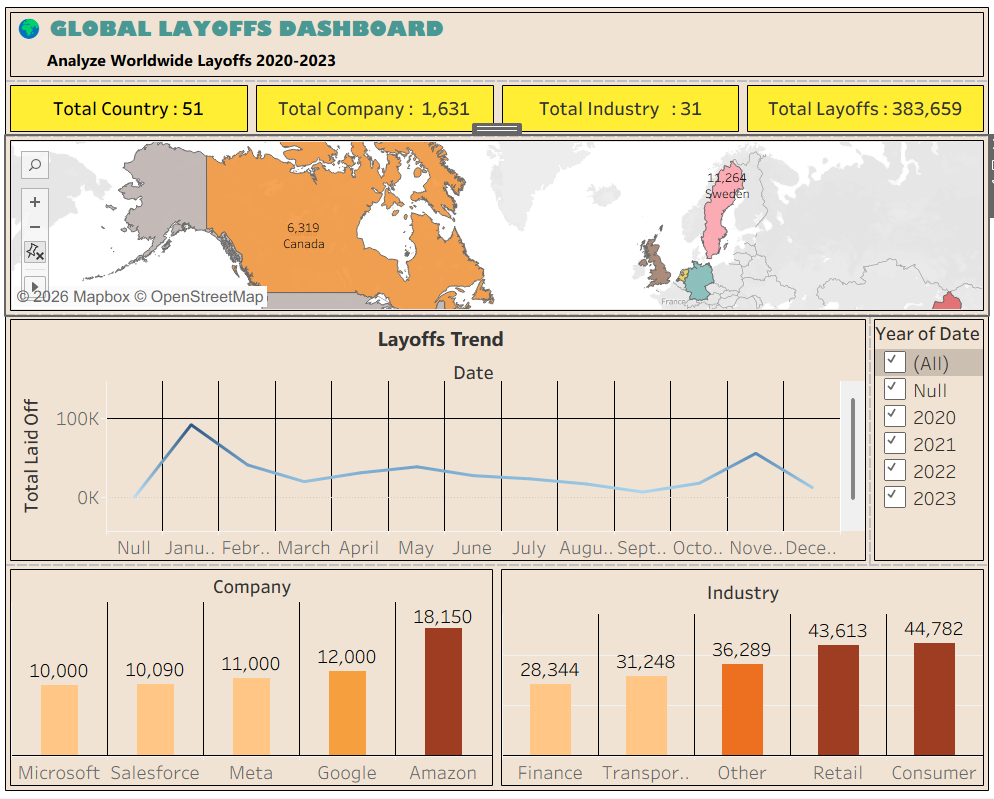

This screenshot's page, from the dashboard's own definition file:
{"tool":"tableau","page":{"name":"Dashboard 2","canvas":[1000,800],"ordinal":1},"visuals":[{"type":"text","box":[9,9,982,72.8]},{"type":"worksheet","title":"t_country","mark":"Automatic","box":[9,82,246,55]},{"type":"worksheet","title":"t_company","mark":"Automatic","box":[255,82,246,55]},{"type":"worksheet","title":"t_industry","mark":"Automatic","box":[501,82,245,55]},{"type":"worksheet","title":"t_layoffs","mark":"Automatic","box":[746,82,245,55]},{"type":"worksheet","title":"top_country","mark":"Multipolygon","box":[9,136.6,982,179.4]},{"type":"worksheet","title":"Layoffs_trend","mark":"Automatic","rows":["total_laid_off"],"cols":["date"],"box":[9,316,864,250]},{"type":"filter","title":"Layoffs_trend","param":"[federated.0qm9r9c16t5tef1e8rkwj1sw08du].[yr:date:ok]","box":[873,316,118,250]},{"type":"worksheet","title":"top_company","mark":"Bar","rows":["total_laid_off"],"cols":["company"],"box":[9,566,491,225]},{"type":"worksheet","title":"top_industry","mark":"Bar","rows":["total_laid_off"],"cols":["industry"],"box":[500,566,491,225]}]}

Visuals, with their boxes in screenshot pixels (x1, y1, x2, y2), scaled from the page's 1000x800 canvas onto the 994x799 screenshot:
text: region(9, 9, 985, 82)
"t_country" worksheet: region(9, 82, 253, 137)
"t_company" worksheet: region(253, 82, 498, 137)
"t_industry" worksheet: region(498, 82, 742, 137)
"t_layoffs" worksheet: region(742, 82, 985, 137)
"top_country" worksheet (Multipolygon marks): region(9, 136, 985, 316)
"Layoffs_trend" worksheet: region(9, 316, 868, 565)
"Layoffs_trend" filter: region(868, 316, 985, 565)
"top_company" worksheet (Bar marks): region(9, 565, 497, 790)
"top_industry" worksheet (Bar marks): region(497, 565, 985, 790)
